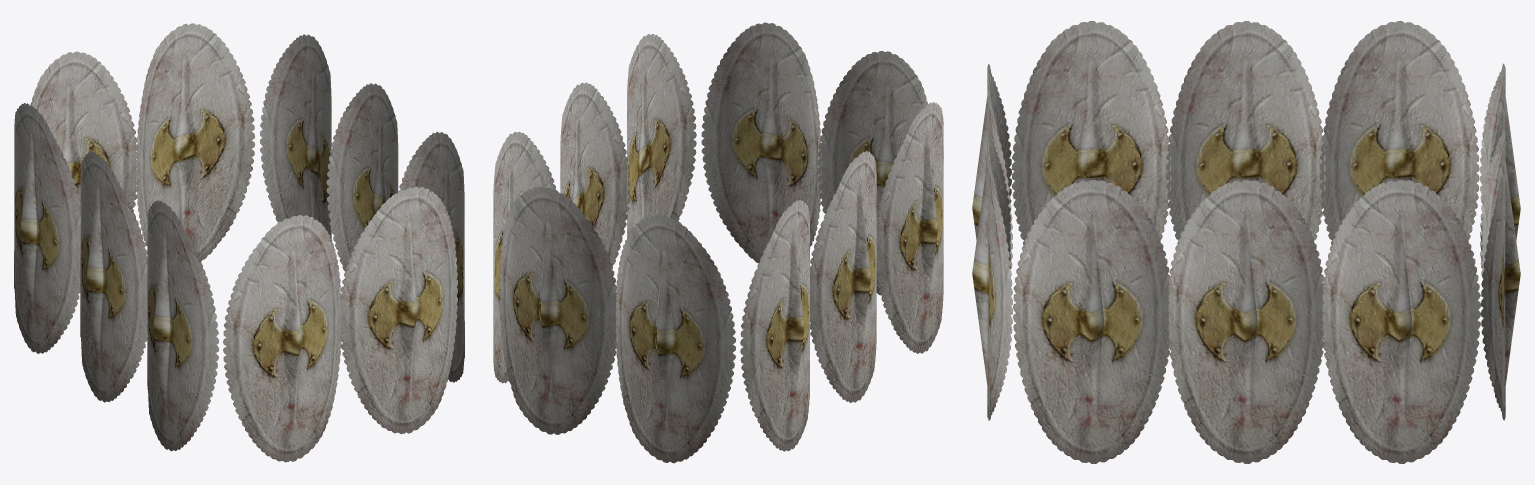
Rendered from howdah_hannibal_shields_f.dae.
3 views of the same model, side by side, from view 1: azimuth 30°, elevation 25°; view 2: azimuth 150°, elevation 25°; view 3: azimuth 270°, elevation 25° (orthographic). The views are drawn at different scales.
Visible parts, largest first — view 1: towershield004; view 2: towershield004; view 3: towershield004.
Part boxes in pixels (<box>): towershield004: <box>14,23,464,462</box>; towershield004: <box>493,22,943,463</box>; towershield004: <box>972,21,1520,463</box>.
Bounding box in the file's own units: 3.31 × 2.67 × 4.47.
